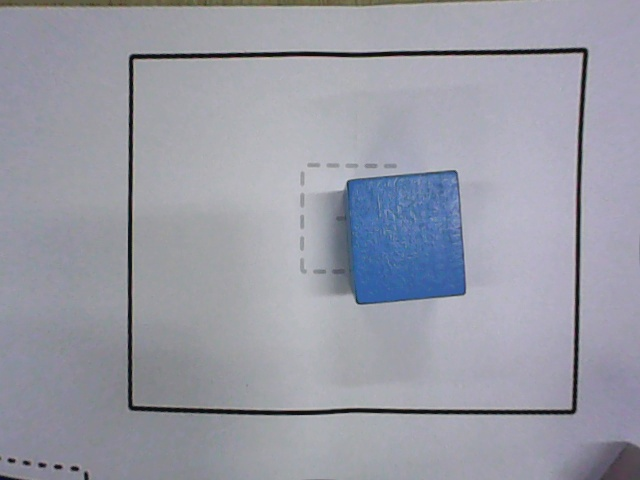upside of big cube: (349, 169, 467, 306)
